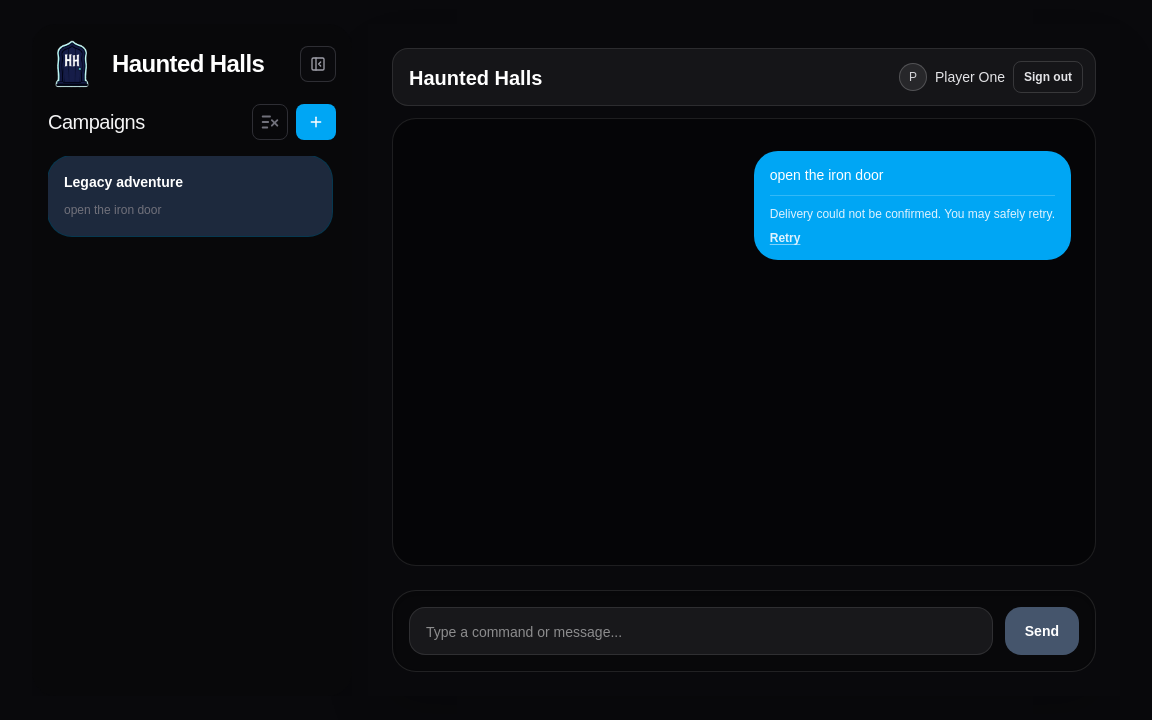
Test: legacy retry idempotency behavior › keeps a legacy failed message retryable and skips chat when Retry cannot generate a secure request ID
Check: the text "Delivery could not be confirmed. You may safely retry." is shown, box [770,204,1055,224]
Click the button with aria-label "Retry sending": (785, 238) [770,228,800,248]
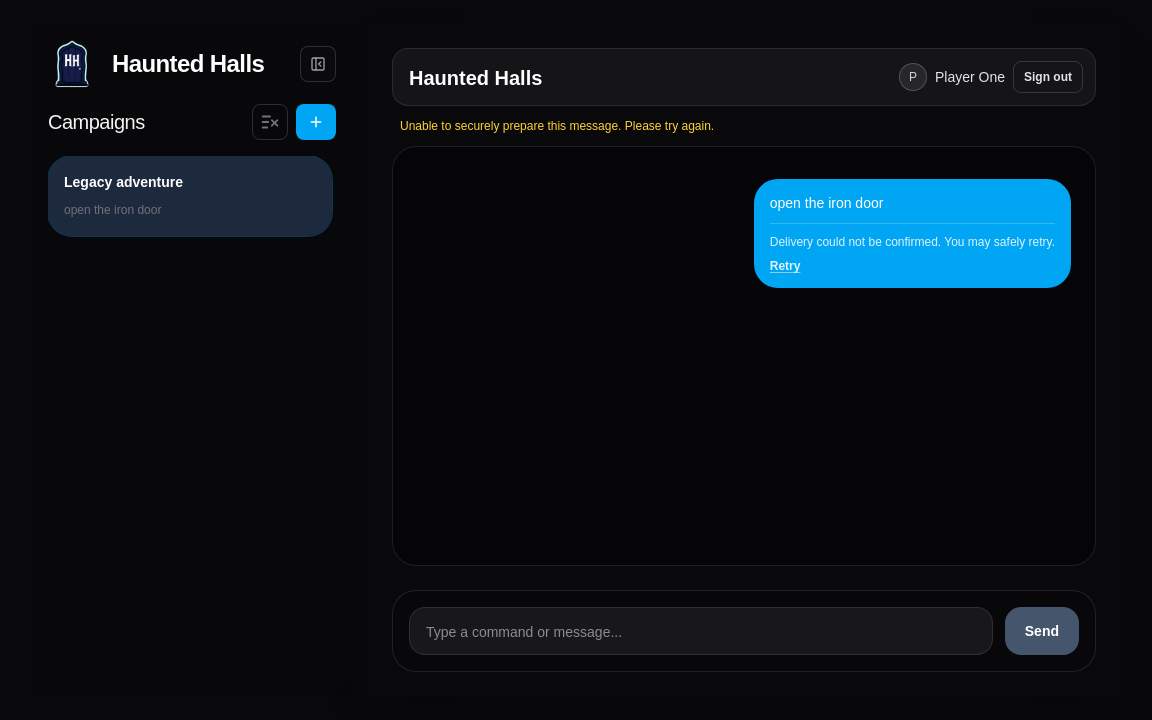
Check: the button with aria-label "Retry sending" is enabled, box [770,256,800,276]
Check: the text "Unable to securely prepare this message. Please try again." is shown, box [400,119,714,133]
